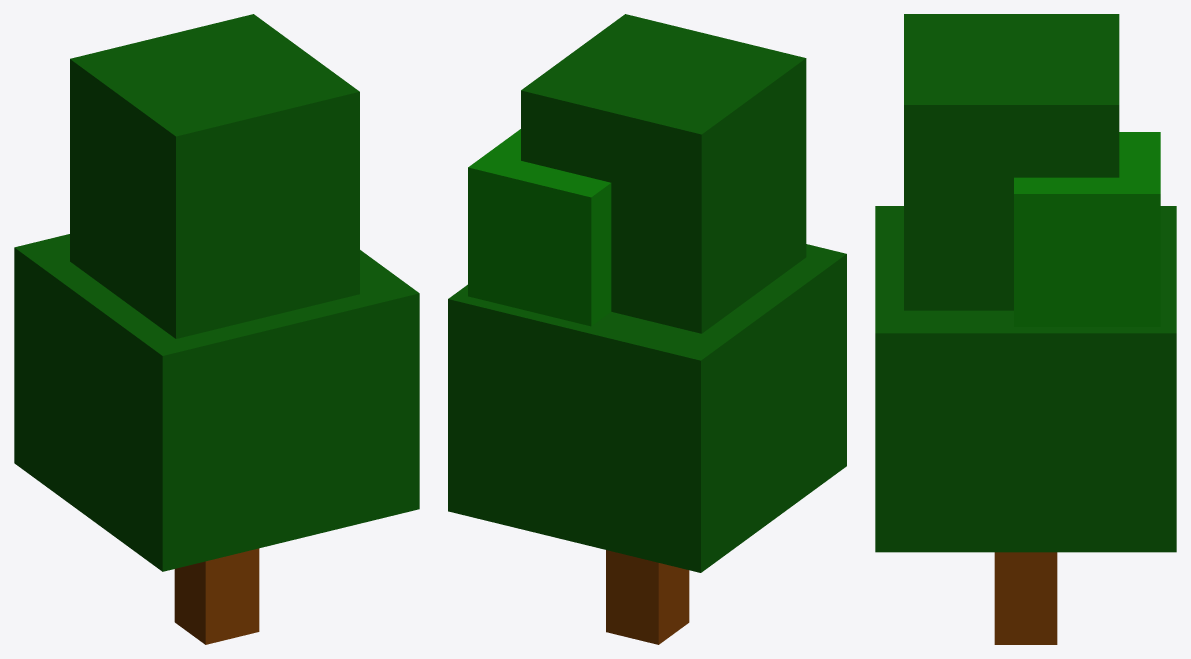
Rendered from Tree_Tall_Green_02.fbx.
3 renders of one model, left to right at view 1: azimuth 30°, elevation 25°; view 2: azimuth 150°, elevation 25°; view 3: azimuth 270°, elevation 25°, orthographic. The views are drawn at different scales.
Parts seen in each view (by area): view 1: Cube; view 2: Cube; view 3: Cube.
Part boxes in pixels (x1,y1,x2,y2): Cube: (14,14,419,644); Cube: (448,14,846,644); Cube: (875,14,1176,644).
Bounding box in the file's own units: 0.9559 × 1.99 × 0.9559.
